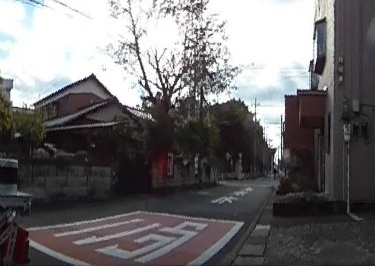person: (271, 161, 278, 177)
